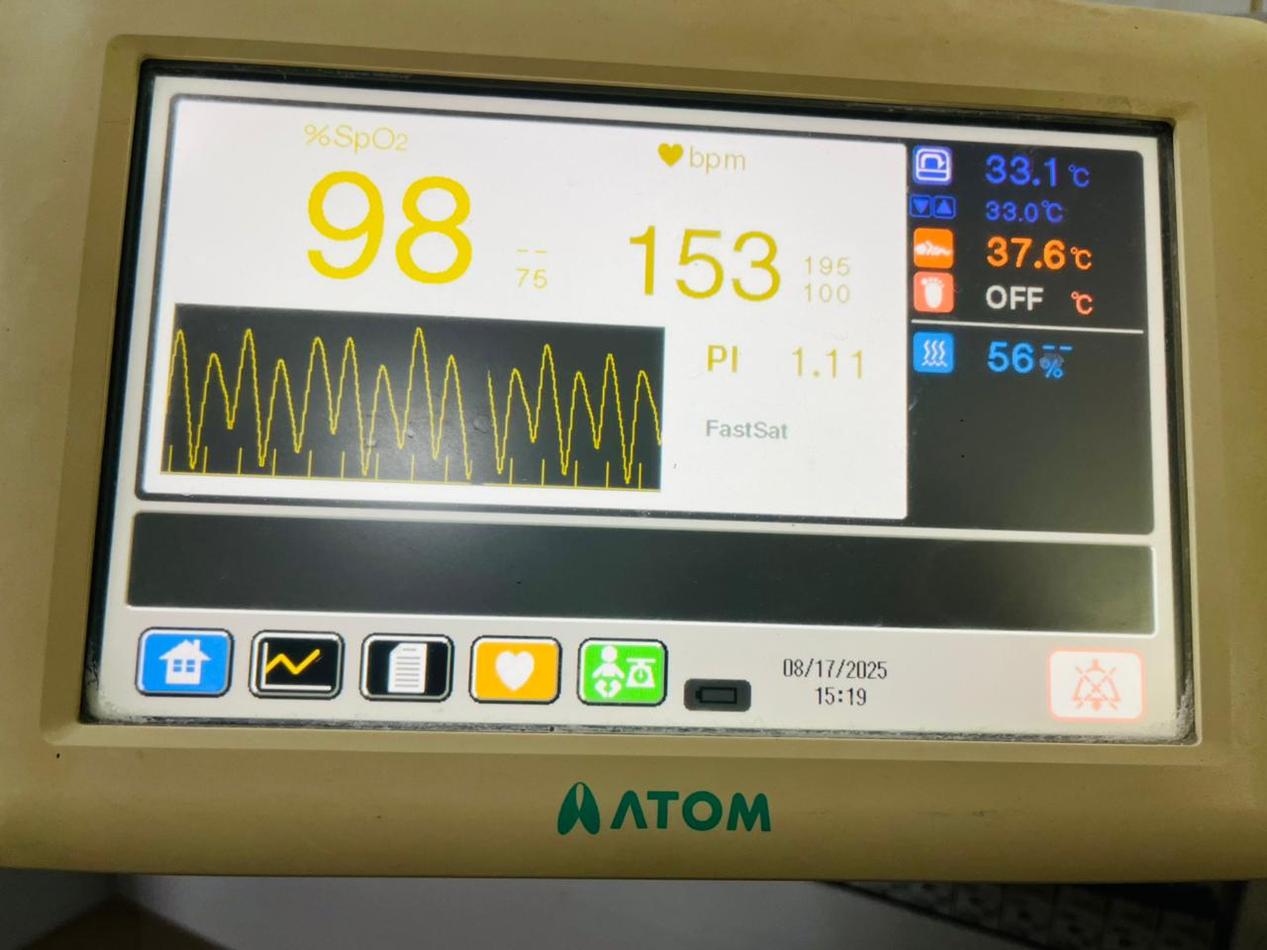air_temp_value: (975, 142, 1064, 197)
heart_rate_value: (615, 204, 793, 324)
humidity_value: (973, 330, 1039, 388)
skin_temp_value: (968, 228, 1069, 279)
spo2_value: (289, 162, 481, 298)
